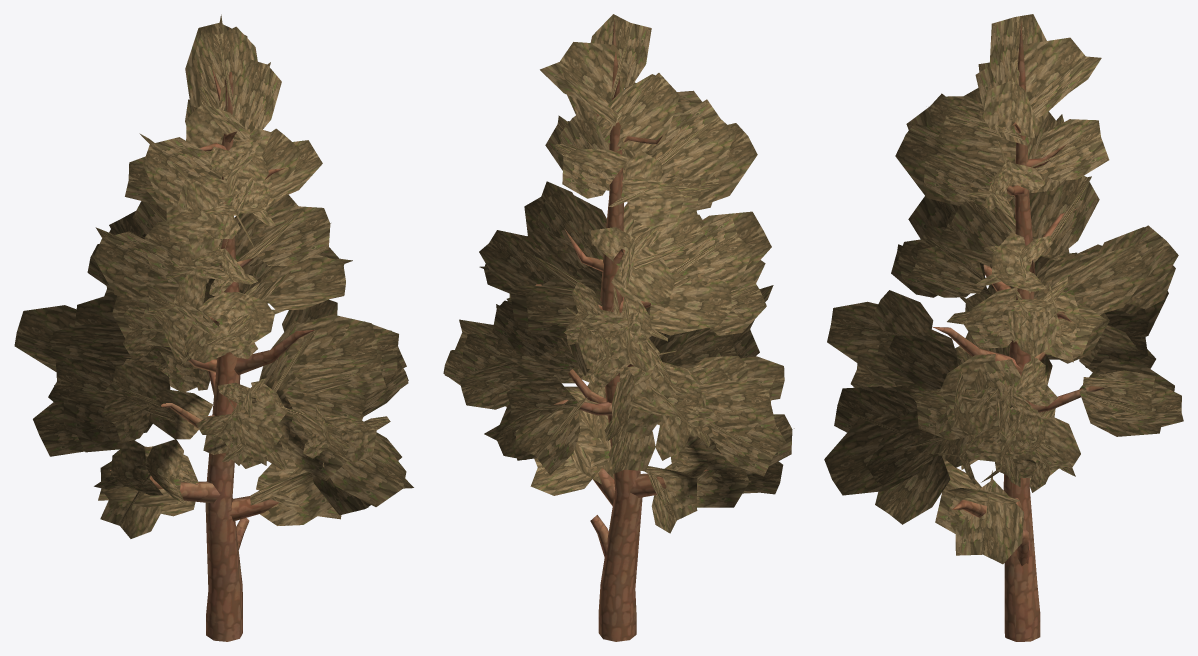
The model's file is P_FirTree5.obj.
3 views of the same model, side by side, from view 1: azimuth 30°, elevation 25°; view 2: azimuth 150°, elevation 25°; view 3: azimuth 270°, elevation 25° (orthographic).
Bounding box in the file's own units: 13.51 × 22.97 × 12.13.
